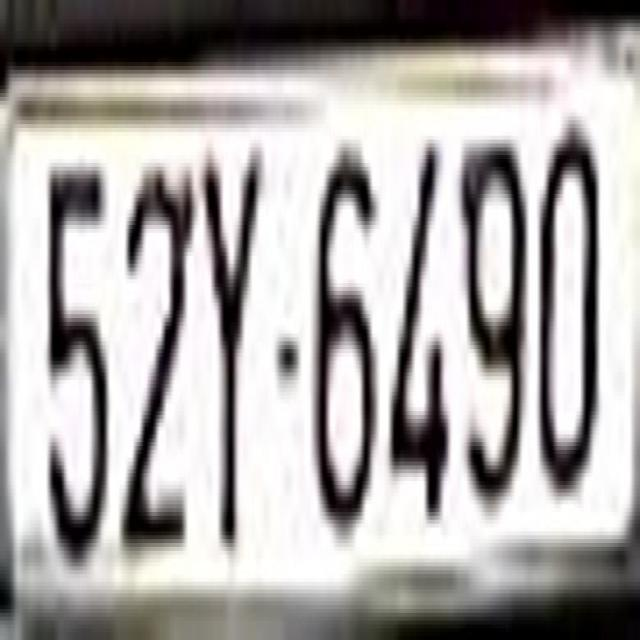0: (539, 120, 599, 477)
2: (125, 159, 188, 543)
4: (389, 140, 451, 524)
5: (44, 156, 108, 532)
6: (314, 148, 377, 528)
9: (468, 128, 522, 531)
Y: (199, 120, 267, 555)
